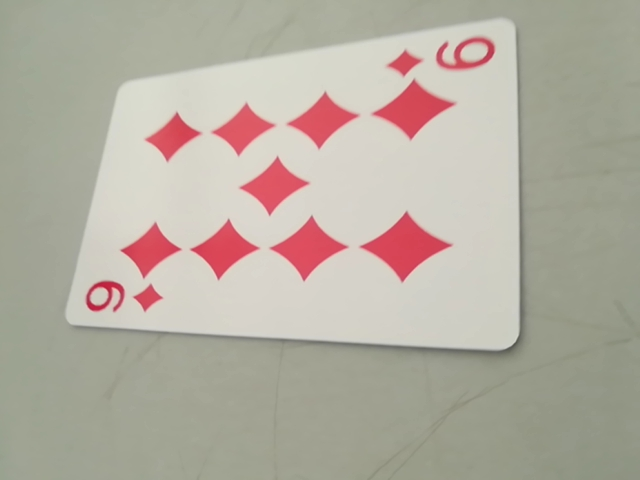fk 9: (384, 30, 504, 86), (74, 274, 169, 329)
